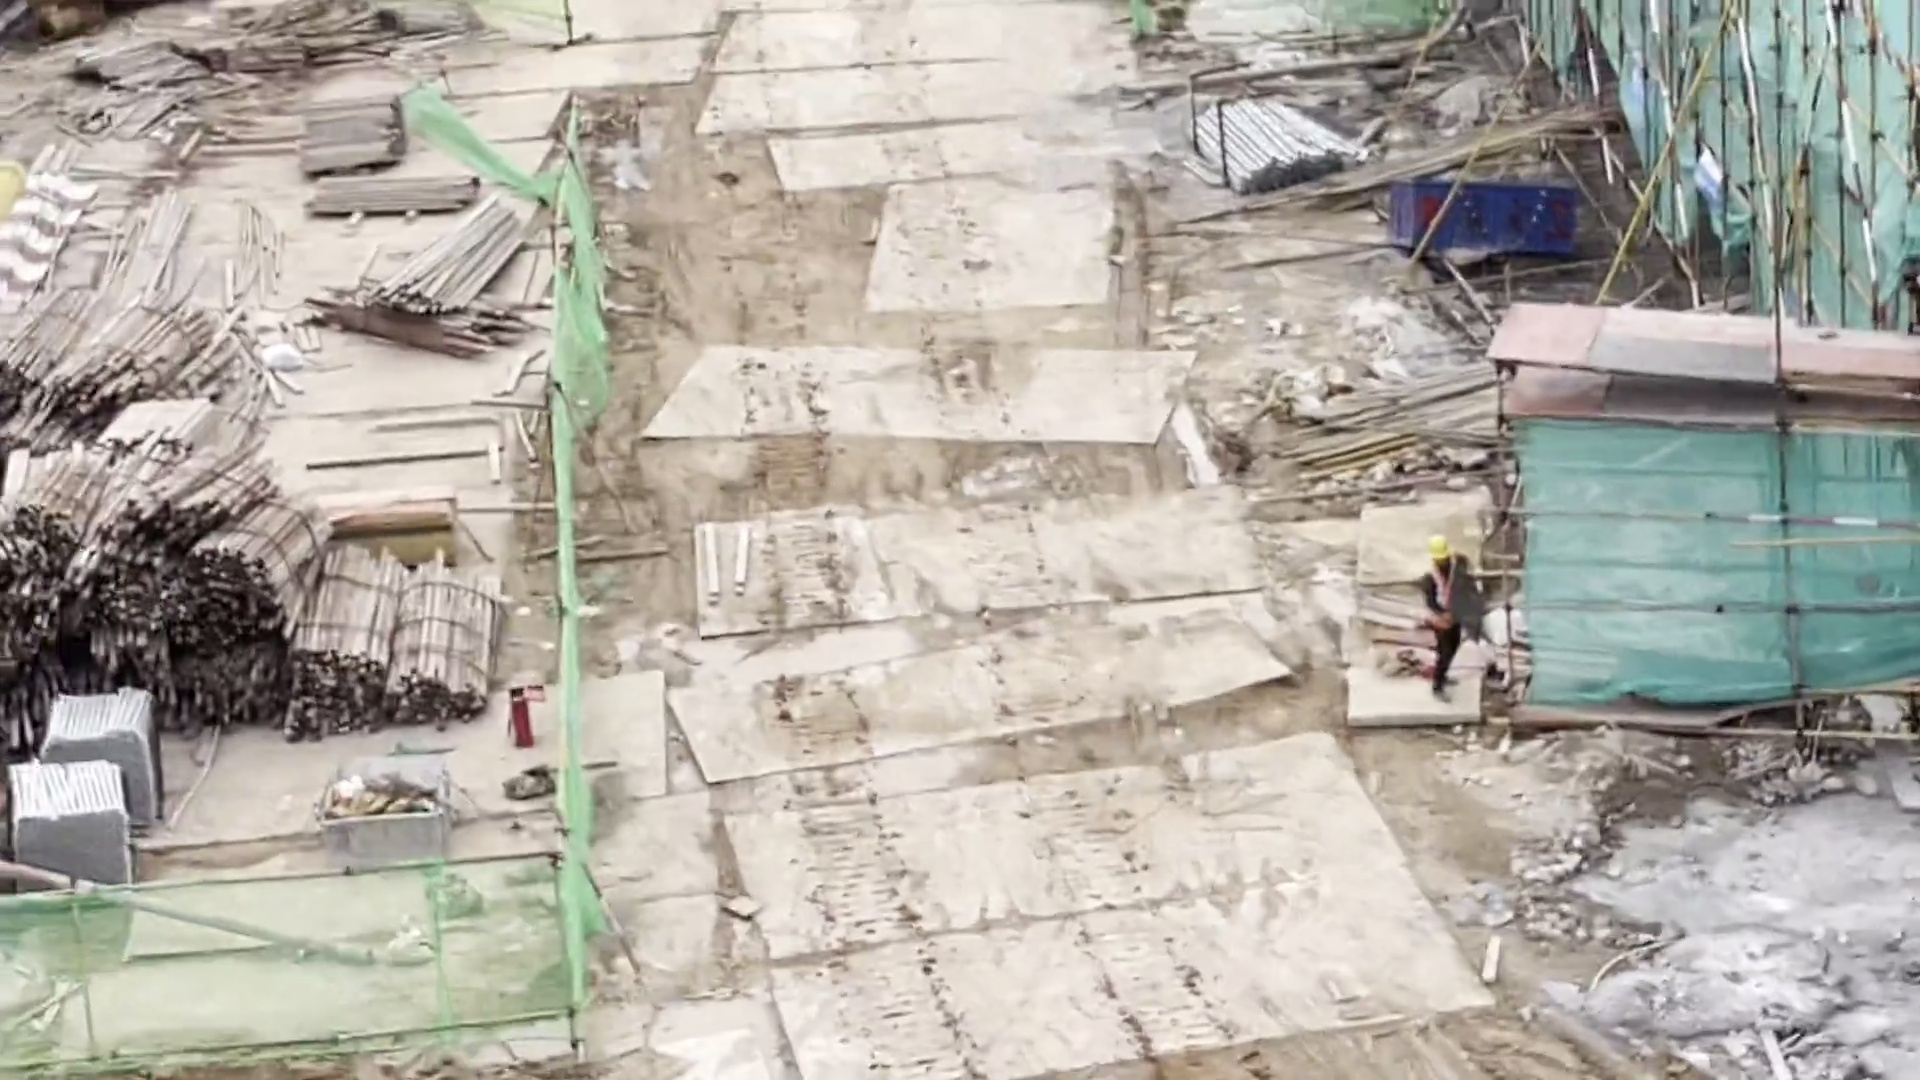helmet: (1423, 533, 1446, 554)
hopper: (1391, 167, 1574, 250), (322, 765, 458, 851)
person: (1419, 534, 1478, 709)
scaffold: (9, 760, 131, 918), (46, 692, 151, 825), (1202, 101, 1324, 182)
vest: (1424, 572, 1456, 635)
wood: (4, 451, 483, 721), (4, 291, 252, 436), (344, 209, 516, 347), (305, 97, 468, 205)
